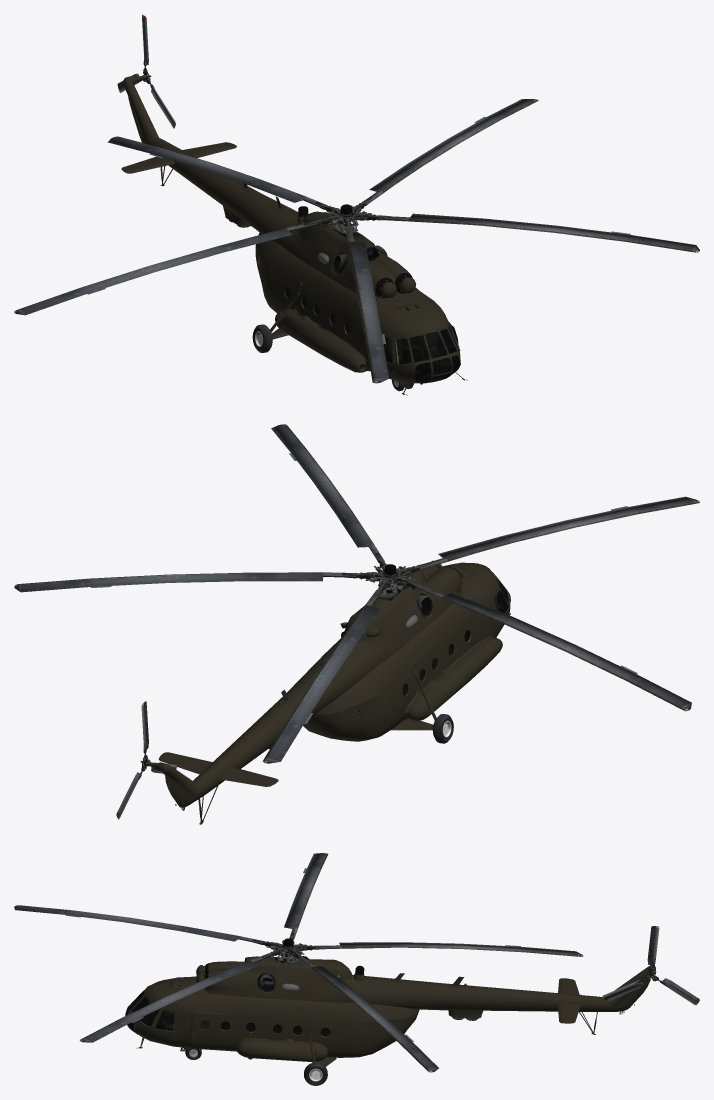
3 views of the same model, one above another, from view 1: azimuth 30°, elevation 25°; view 2: azimuth 150°, elevation 25°; view 3: azimuth 270°, elevation 25° (orthographic). The views are drawn at different scales.
Visible parts, largest first — view 1: mi8_Material #2460_0, lopocty_Material #1469_0, mi8_Material #2419_0, mi8_Material #1468_0, lopocty_Material #1470_0, zad.vint_Material #1473_0; view 2: mi8_Material #2460_0, lopocty_Material #1469_0, lopocty_Material #1470_0, mi8_Material #1468_0, mi8_Material #2419_0, zad.vint_Material #1473_0; view 3: mi8_Material #2460_0, lopocty_Material #1469_0, mi8_Material #1468_0, mi8_Material #2419_0, zad.vint_Material #1473_0, lopocty_Material #1470_0, dver_Material #2460_0.
Boxes of the visible parts, <box> form: mi8_Material #2460_0: <box>121,75,464,394</box>; lopocty_Material #1469_0: <box>14,99,699,383</box>; mi8_Material #2419_0: <box>284,286,459,382</box>; mi8_Material #1468_0: <box>138,133,467,395</box>; lopocty_Material #1470_0: <box>303,197,392,234</box>; zad.vint_Material #1473_0: <box>117,14,175,128</box>; mi8_Material #2460_0: <box>146,560,510,824</box>; lopocty_Material #1469_0: <box>14,424,699,763</box>; lopocty_Material #1470_0: <box>341,552,431,597</box>; mi8_Material #1468_0: <box>175,584,453,810</box>; mi8_Material #2419_0: <box>402,576,510,695</box>; zad.vint_Material #1473_0: <box>116,701,176,819</box>; mi8_Material #2460_0: <box>127,956,655,1066</box>; lopocty_Material #1469_0: <box>14,853,583,1072</box>; mi8_Material #1468_0: <box>136,956,634,1085</box>; mi8_Material #2419_0: <box>125,990,330,1036</box>; zad.vint_Material #1473_0: <box>602,926,699,1005</box>; lopocty_Material #1470_0: <box>252,932,326,962</box>; dver_Material #2460_0: <box>191,1013,216,1049</box>.
Size of the model in its own units: 22.03 by 5.98 by 26.72.
Materials: 8 (5 with a texture image).
